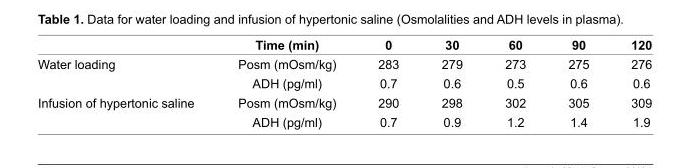table: (36, 37, 651, 128)
table column: (36, 37, 215, 128), (215, 37, 356, 128), (419, 37, 483, 128), (356, 37, 419, 128), (483, 37, 546, 128), (546, 37, 609, 128), (609, 37, 651, 128)
table column header: (36, 37, 651, 54)
table row: (36, 54, 651, 73), (36, 73, 651, 92), (36, 92, 651, 111), (36, 37, 651, 54), (36, 111, 651, 128)
table spanning cell: (36, 54, 215, 92), (36, 92, 215, 128)
